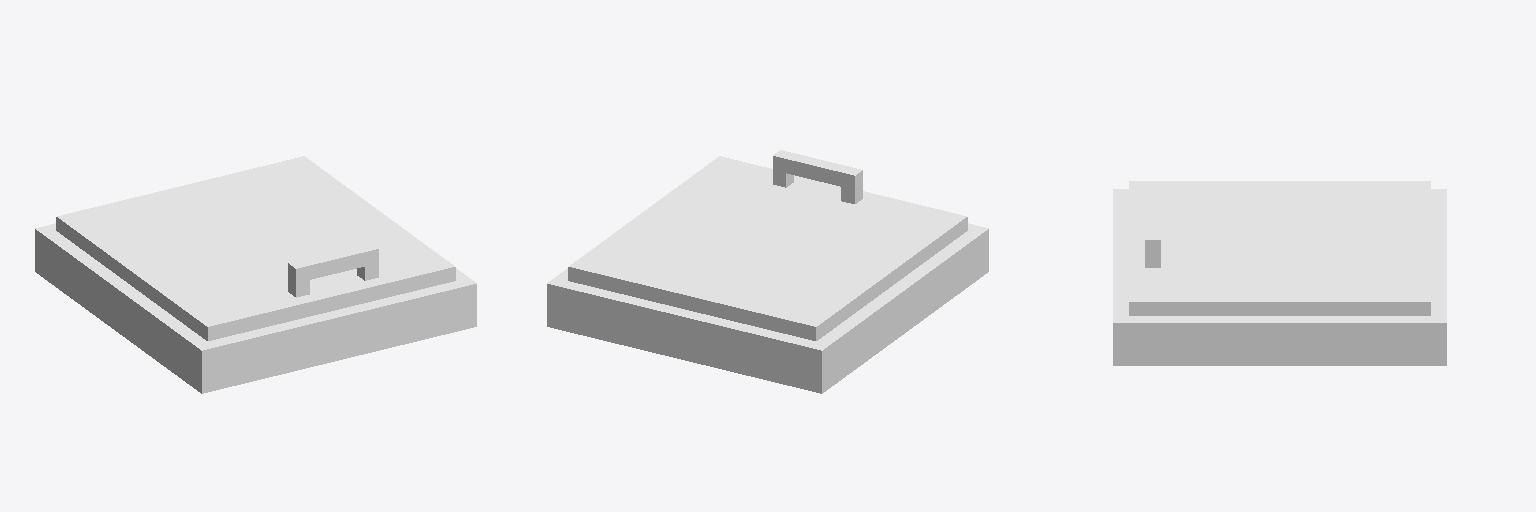
The model's file is Trapdoor.obj.
3 views of the same model, side by side, from view 1: azimuth 30°, elevation 25°; view 2: azimuth 150°, elevation 25°; view 3: azimuth 270°, elevation 25° (orthographic).
Visible parts, largest first — view 1: object 1; view 2: object 1; view 3: object 1.
Part boxes in pixels (left/top/right/bottom): object 1: left=35, top=156, right=476, bottom=393; object 1: left=547, top=150, right=988, bottom=393; object 1: left=1113, top=181, right=1446, bottom=365.
Bounding box in the file's own units: 2 × 0.6 × 2.1.